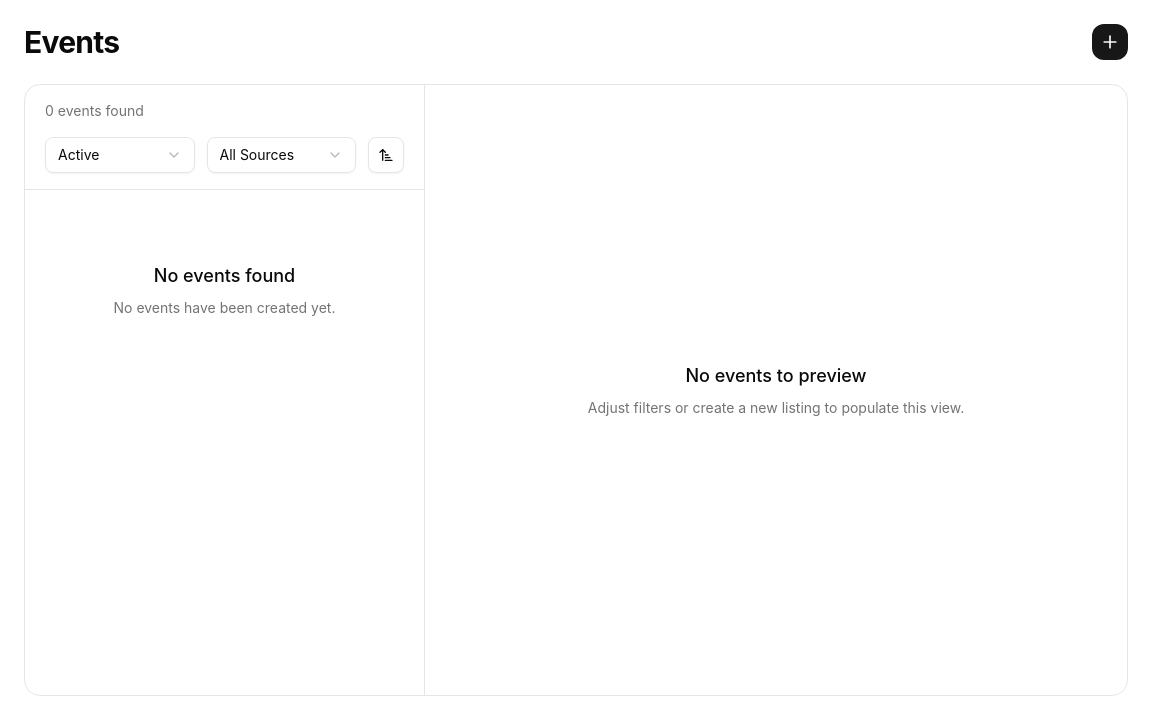
Scenario: [phase:1] [regression:always] EventsPage › clear filters resets all filters
The width and height of the screenshot is (1152, 720).
Expected: the text "No events found" is shown, [154,262,295,290]
Click the dropdown labelled "Active" at point(120, 155), box [45,137,194,173]
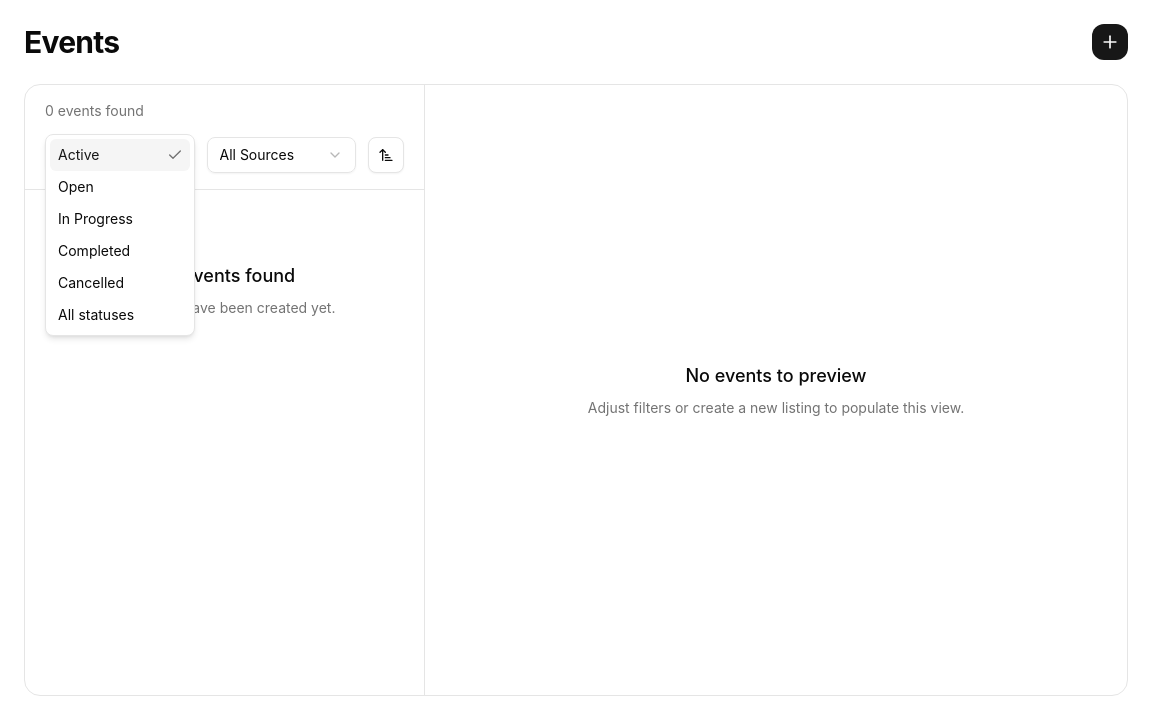
Click the option "Open" at point(76, 186), box [58,178,94,195]
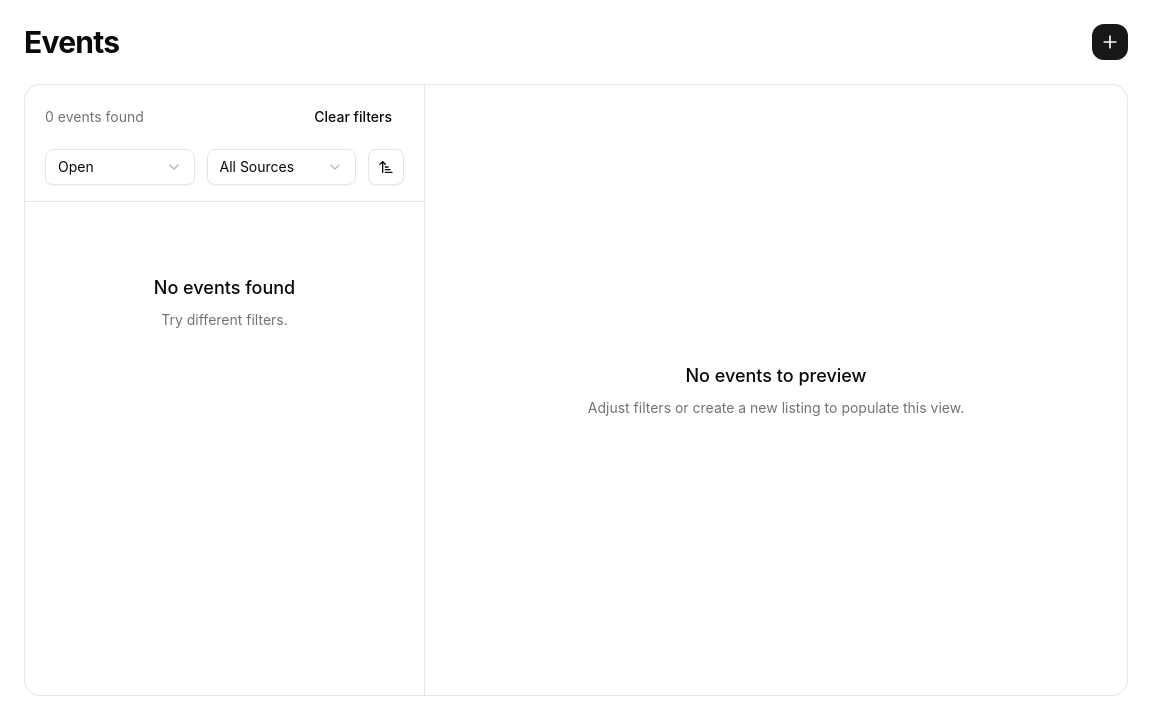
Click the button "Clear filters" at point(353, 117), box [302,101,404,133]
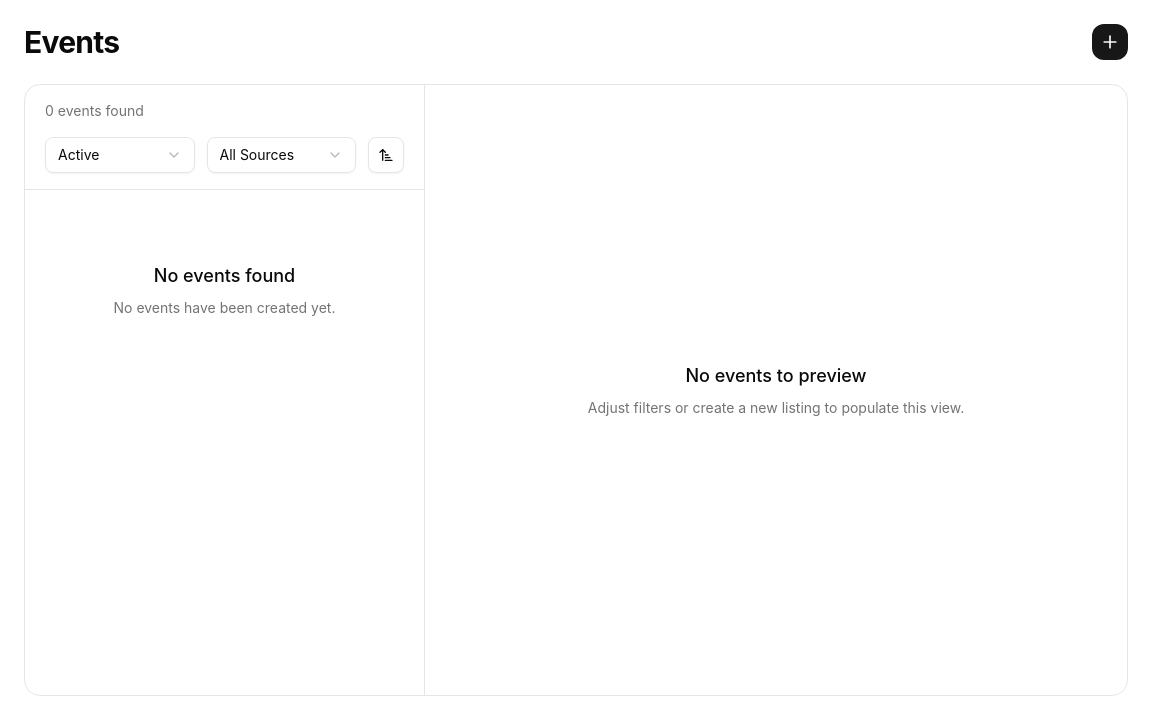
Expected: the button named "Sort by latest first" is shown, [368,137,404,173]
Expected: the dropdown labelled "Active" is shown, [45,137,194,173]
